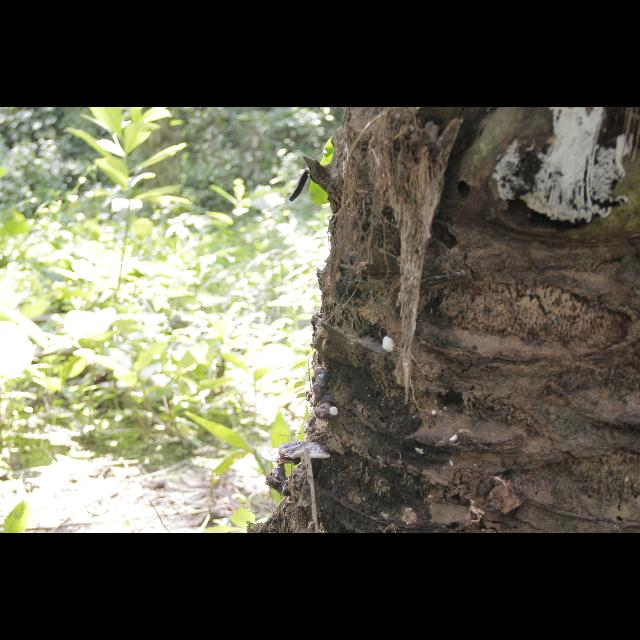ganoderma: (312, 368, 333, 421), (280, 441, 333, 462), (262, 448, 303, 466)
primordium: (383, 337, 399, 354), (330, 407, 341, 420), (432, 411, 438, 417)
